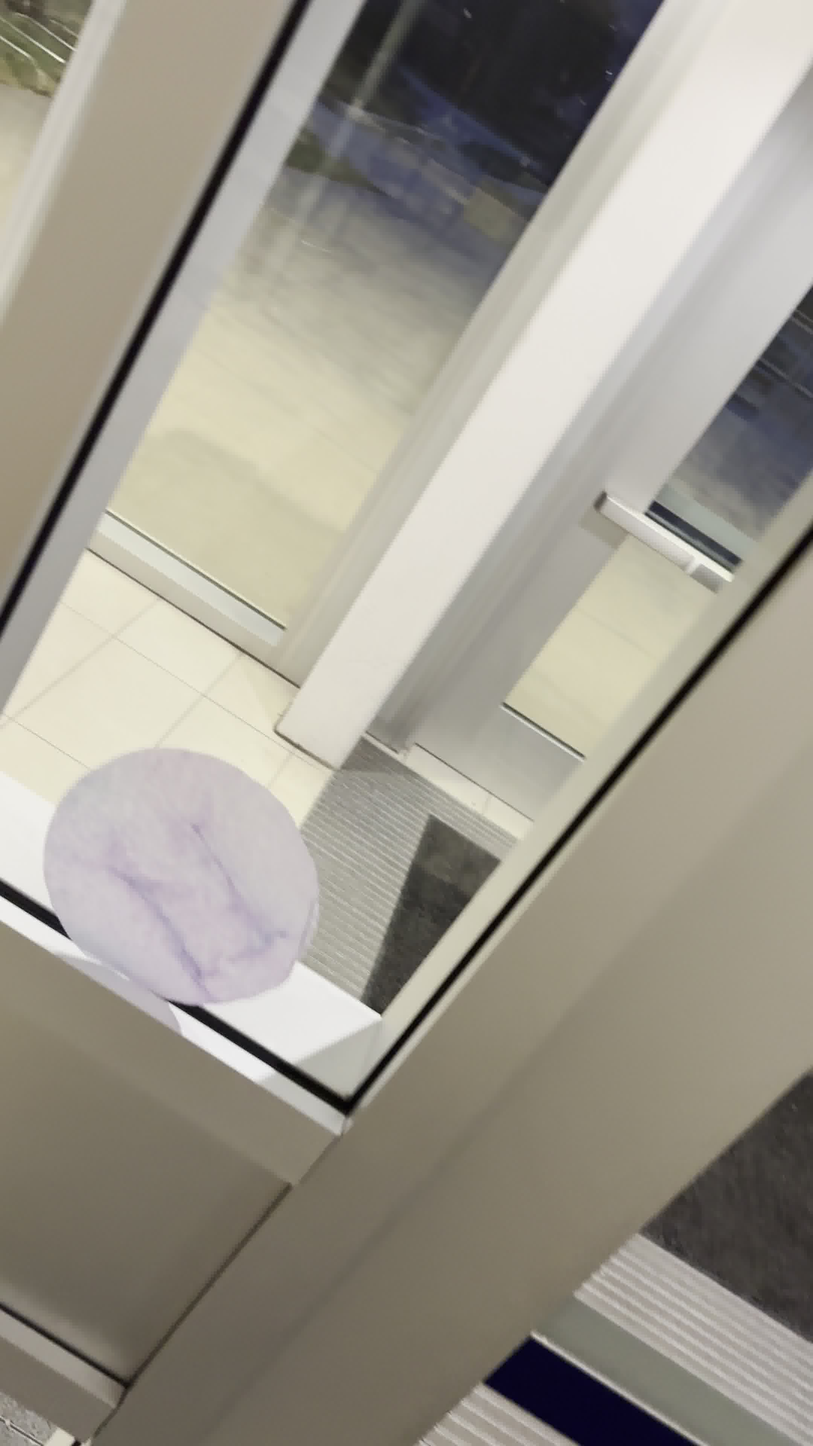Target: (40, 744, 322, 1006)
